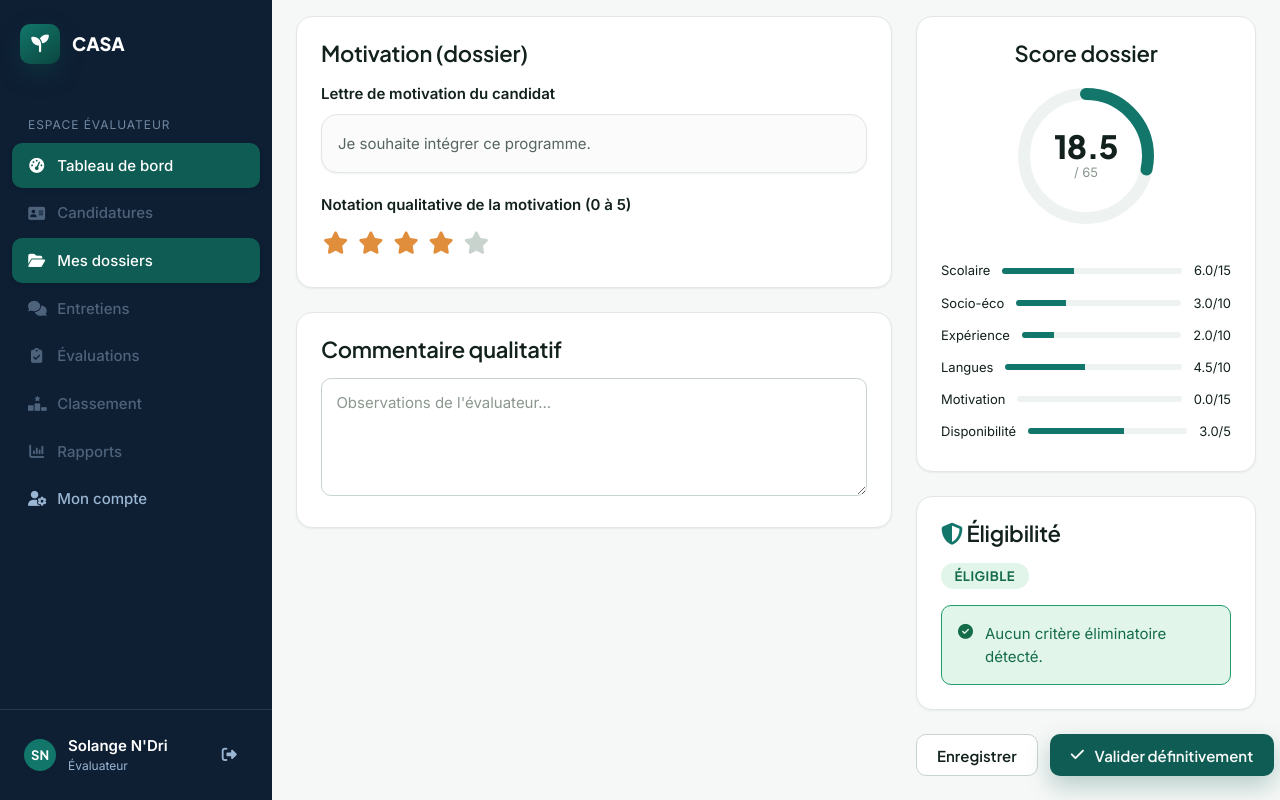
Test: EvaluationDossier — verrouillage visuel RÉEL après validation (ADR-04) › valider -> fieldset nativement désactivé, boutons remplacés par la bannière, snapshot affiché
The image size is (1280, 800).
(page scrolled)
Expected: the text "18.5" is shown, [1054, 130, 1118, 162]
Step 1. Click the button "Valider définitivement" → (1162, 755), box [1050, 734, 1274, 776]
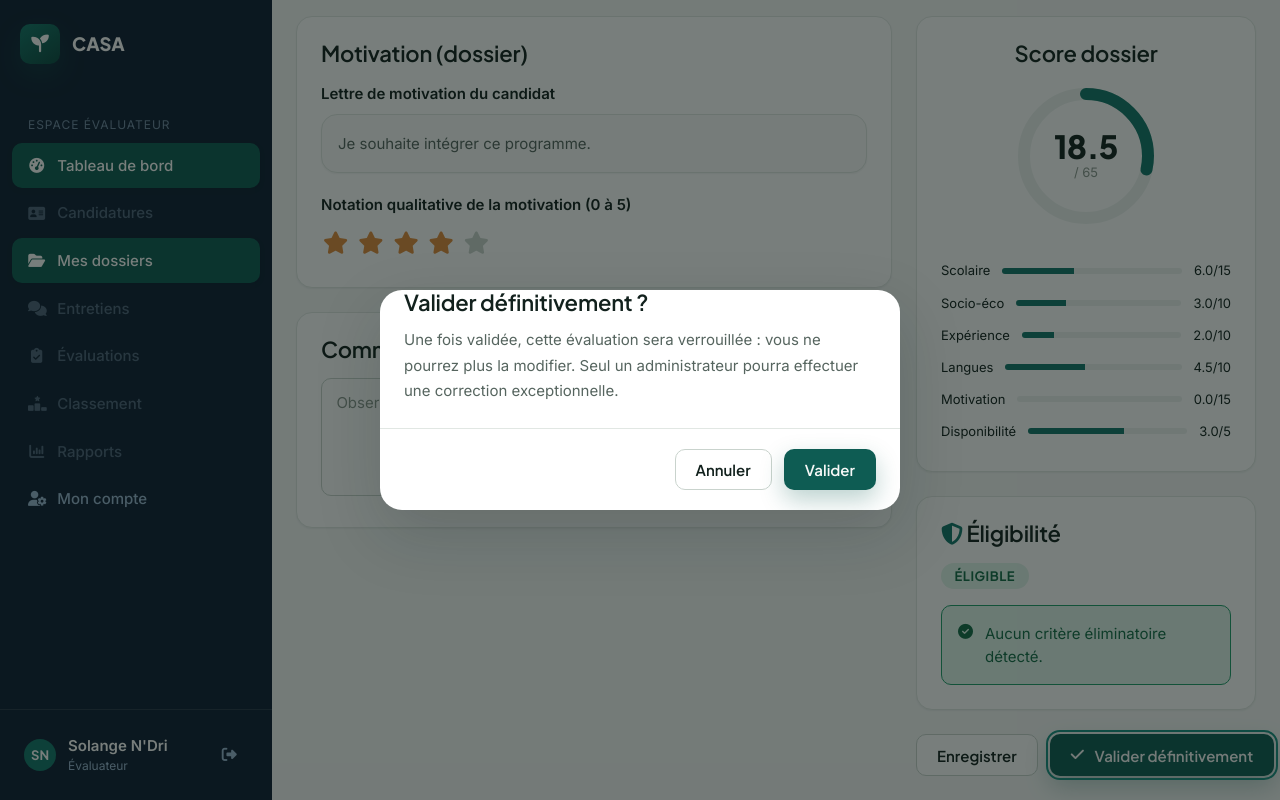
Step 2. Click the button "Valider" → (830, 469), box [784, 449, 876, 490]
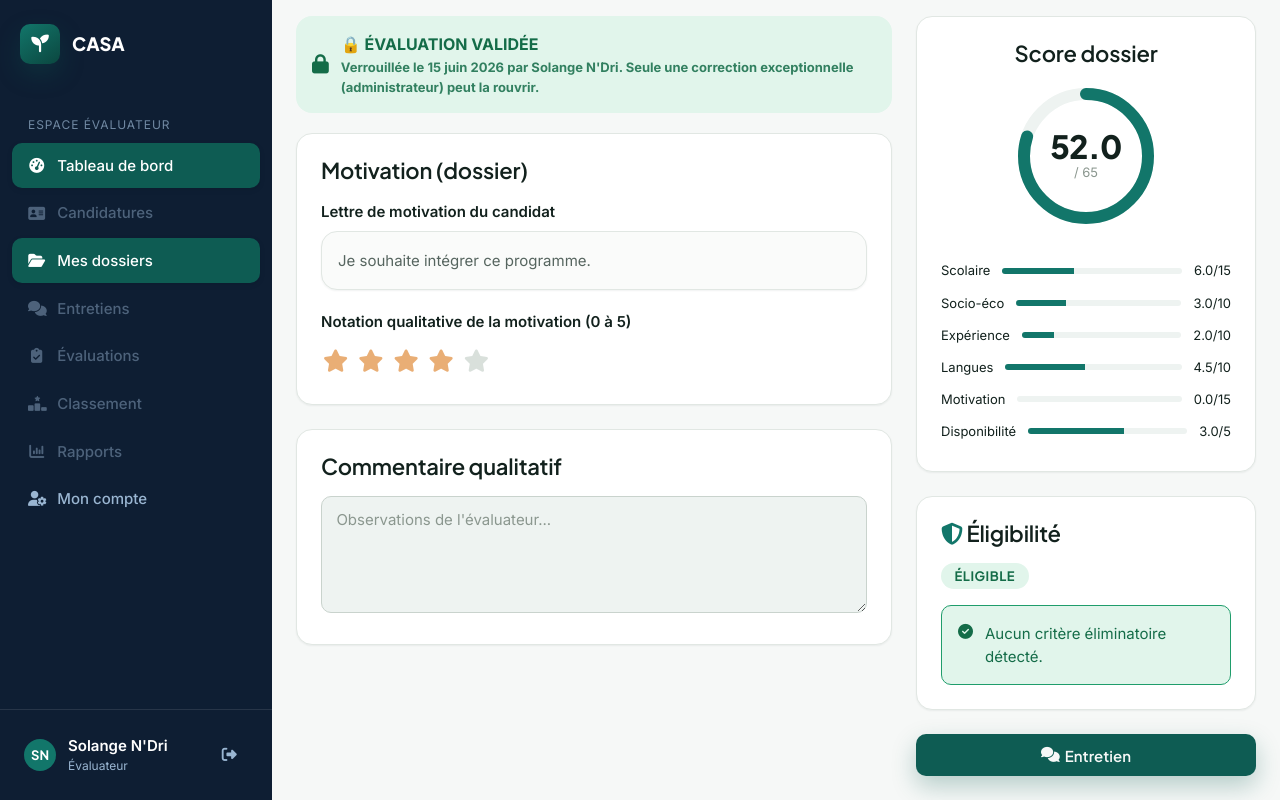
Result: the text "🔒 ÉVALUATION VALIDÉE" is shown at [341, 34, 538, 54]
Result: the text "52.0" is shown at [1050, 130, 1122, 162]
Result: the button "Enregistrer" is gone
